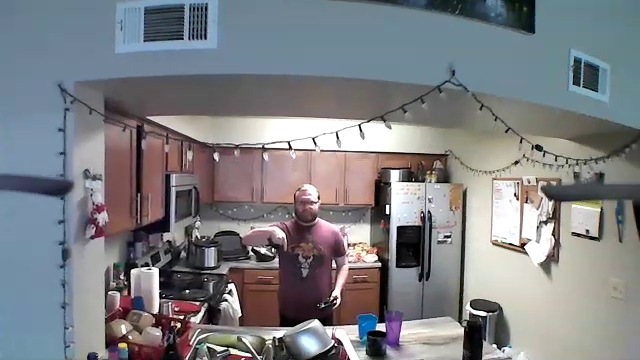down: (266, 223, 291, 255)
